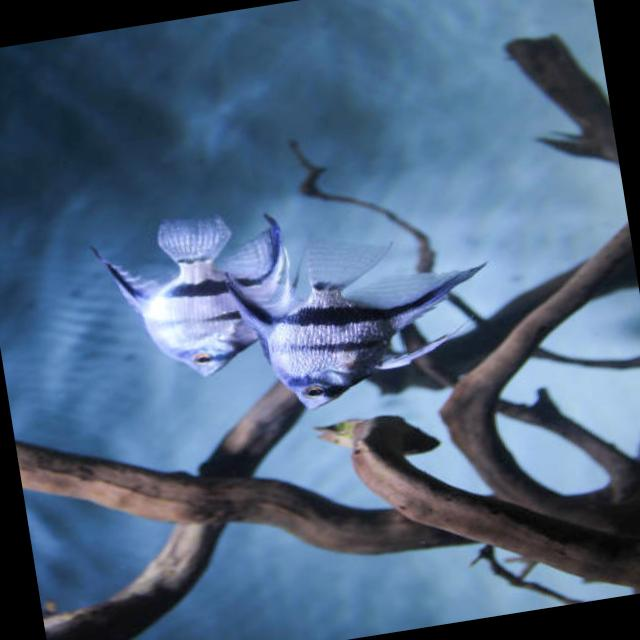AngelFish: (218, 224, 506, 418), (85, 192, 307, 394)
